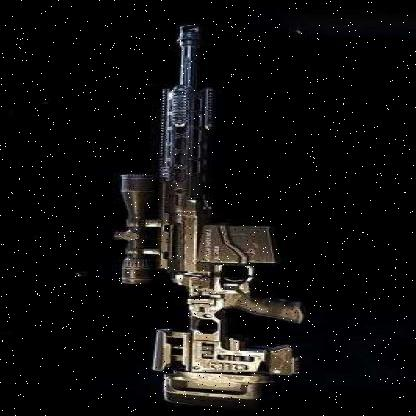rifle: (88, 17, 332, 409)
